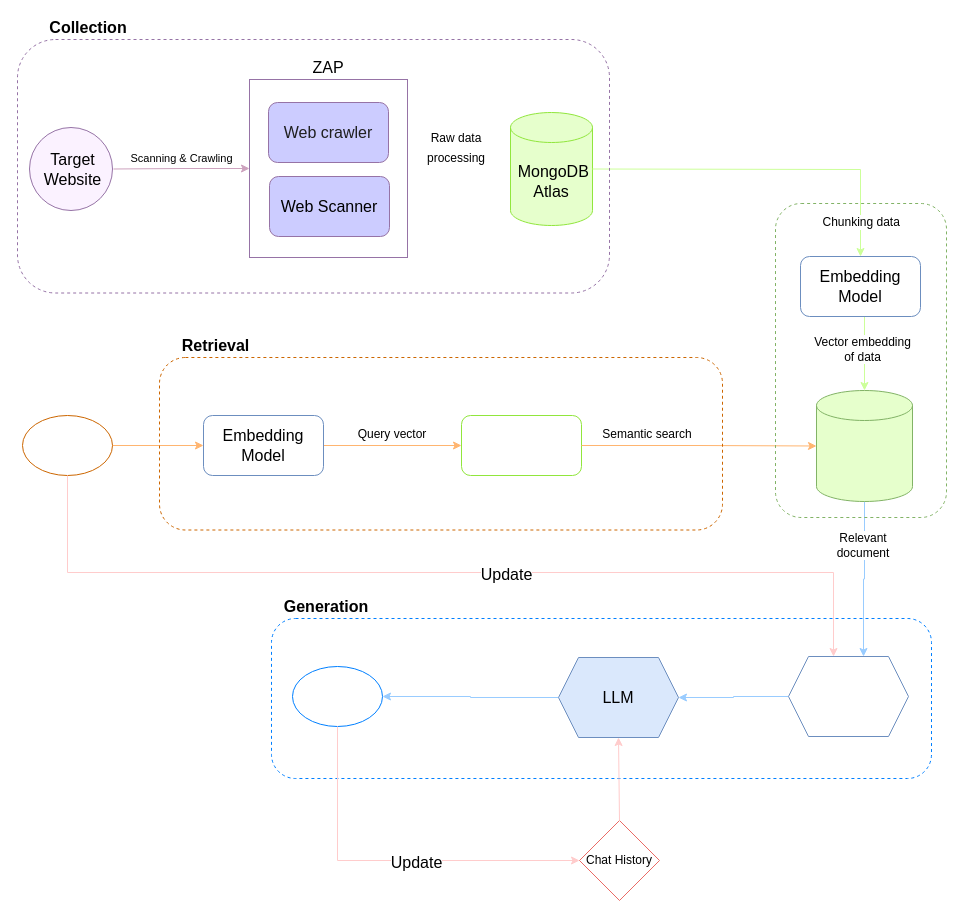
This 964x918 diagram has some shape labels left out. Here are the shapes that lost their labels. From the top down, the box of each, then its label:
(774, 202, 946, 518): Ingestion
(22, 414, 112, 476): Query
(460, 414, 582, 476): Atlas Vector Search
(816, 390, 912, 502): MongoDB Atlas Vector Search
(292, 666, 382, 726): Response
(788, 656, 908, 736): Prompt
